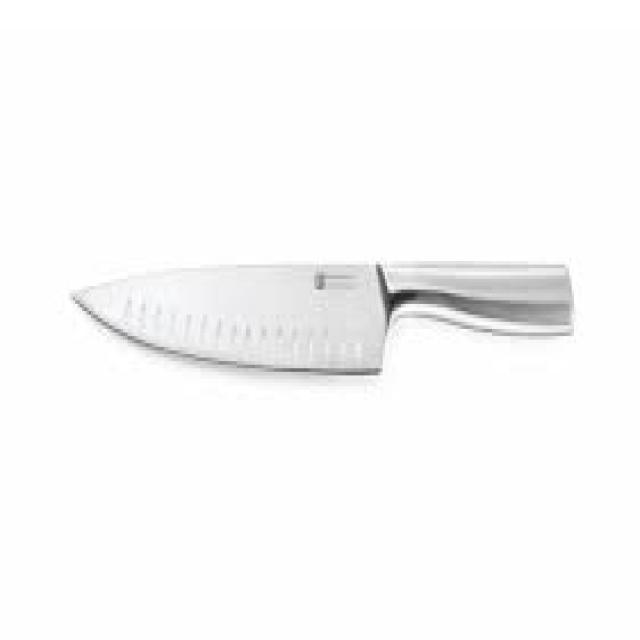knife: (69, 254, 581, 394)
